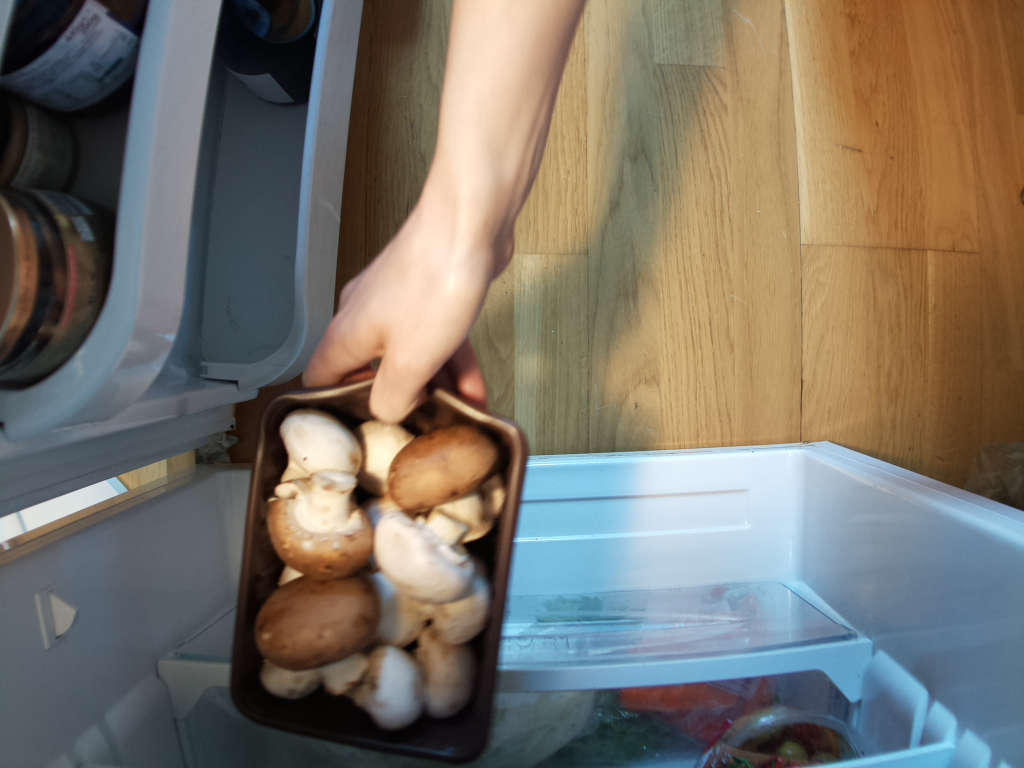mushrooms: (245, 386, 506, 756)
